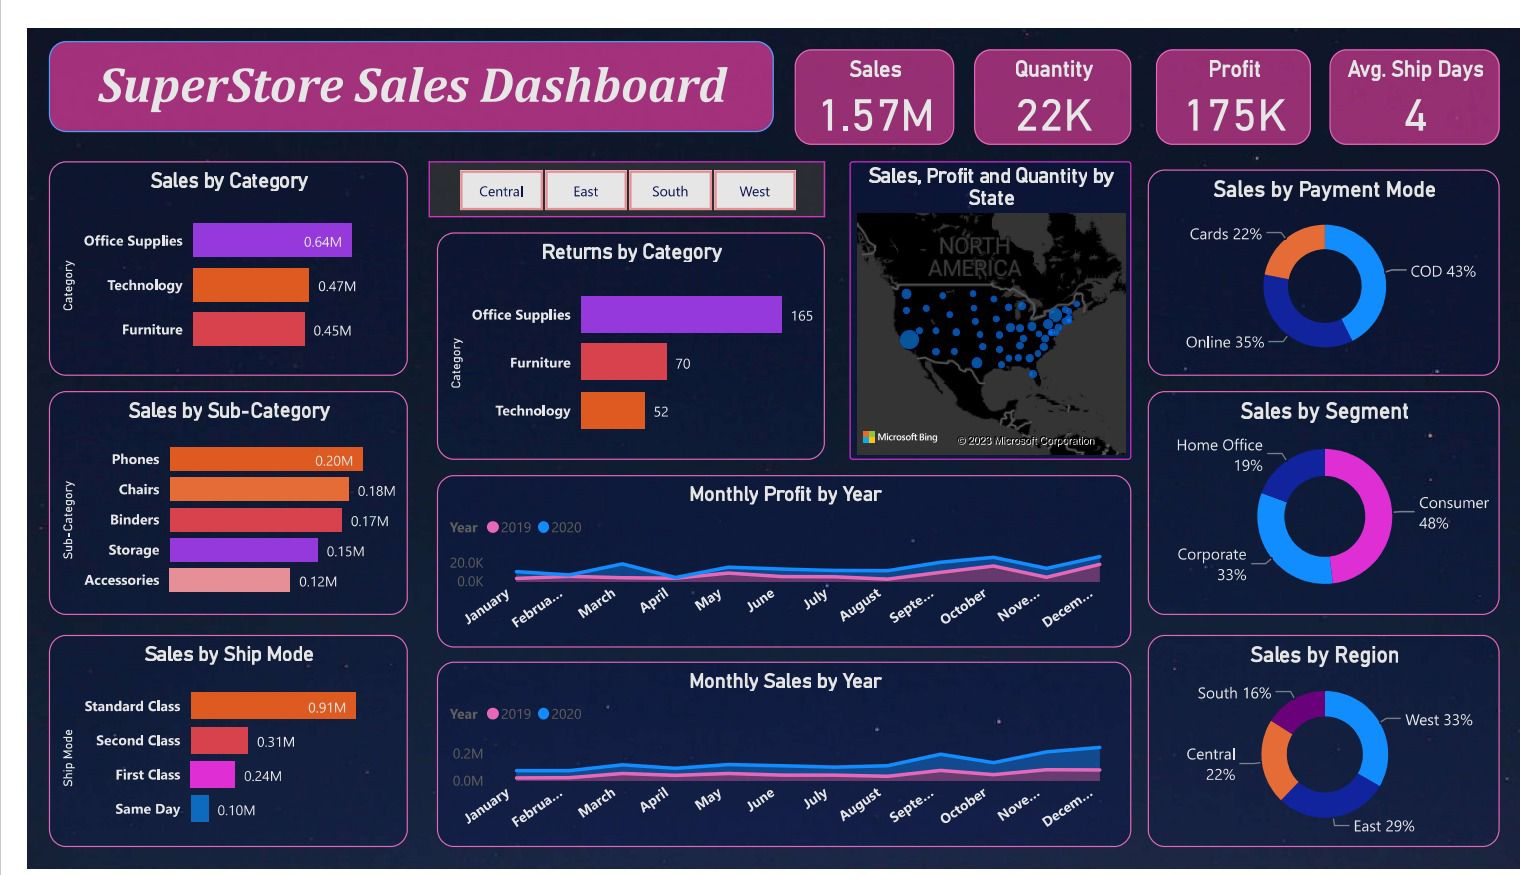

The page's visual inventory and layout, read from the dashboard file:
{"tool":"powerbi","page":{"name":"Dashboard","canvas":[1280,720],"ordinal":0},"visuals":[{"type":"clusteredBarChart","title":" Sales by Category","fields":{"Category":["SuperStore_Sales_Dataset.Category"],"Y":["Sum(SuperStore_Sales_Dataset.Sales)"]},"box":[17.8,113.8,308.5,183.7],"z":0},{"type":"clusteredBarChart","title":"Sales by Sub-Category","fields":{"Category":["SuperStore_Sales_Dataset.Sub-Category"],"Y":["Sum(SuperStore_Sales_Dataset.Sales)"]},"box":[17.8,311.2,308.5,191.9],"z":1000},{"type":"clusteredBarChart","title":"Sales by Ship Mode","fields":{"Category":["SuperStore_Sales_Dataset.Ship Mode"],"Y":["Sum(SuperStore_Sales_Dataset.Sales)"]},"box":[17.8,519.6,308.5,182.3],"z":2000},{"type":"donutChart","title":"Sales by Region","fields":{"Category":["SuperStore_Sales_Dataset.Region"],"Y":["Sum(SuperStore_Sales_Dataset.Sales)"]},"box":[961.1,519.6,301.6,182.3],"z":3000},{"type":"donutChart","title":"Sales by Segment","fields":{"Y":["Sum(SuperStore_Sales_Dataset.Sales)"],"Category":["SuperStore_Sales_Dataset.Segment"]},"box":[961.1,311.2,301.6,191.9],"z":4000},{"type":"donutChart","title":"Sales by Payment Mode","fields":{"Category":["SuperStore_Sales_Dataset.Payment Mode"],"Y":["Sum(SuperStore_Sales_Dataset.Sales)"]},"box":[961.1,120.7,301.6,176.9],"z":5000},{"type":"stackedAreaChart","title":"Monthly Sales by Year","fields":{"Category":["SuperStore_Sales_Dataset.Order Date.Variation.Date Hierarchy.Month","SuperStore_Sales_Dataset.Order Date.Variation.Date Hierarchy.Day"],"Y":["Sum(SuperStore_Sales_Dataset.Sales)"],"Series":["SuperStore_Sales_Dataset.Order Date.Variation.Date Hierarchy.Year"]},"box":[351,542.9,596.4,159],"z":6000},{"type":"stackedAreaChart","title":"Monthly Profit by Year","fields":{"Category":["SuperStore_Sales_Dataset.Order Date.Variation.Date Hierarchy.Month","SuperStore_Sales_Dataset.Order Date.Variation.Date Hierarchy.Day"],"Series":["SuperStore_Sales_Dataset.Order Date.Variation.Date Hierarchy.Year"],"Y":["Sum(SuperStore_Sales_Dataset.Profit)"]},"box":[351,382.5,596.4,148.1],"z":7000},{"type":"map","title":" Sales, Profit and Quantity by State","fields":{"Category":["SuperStore_Sales_Dataset.State"],"Size":["Sum(SuperStore_Sales_Dataset.Sales)"]},"box":[704.7,113.8,242.7,256.4],"z":8000},{"type":"slicer","fields":{"Values":["SuperStore_Sales_Dataset.Region"]},"box":[344.1,113.8,340,48],"z":9000},{"type":"card","title":"Sales","fields":{"Values":["Sum(SuperStore_Sales_Dataset.Sales)"]},"box":[658.1,17.8,137.1,82.3],"z":10000},{"type":"card","title":"Quantity","fields":{"Values":["Sum(SuperStore_Sales_Dataset.Quantity)"]},"box":[811.7,17.8,135.7,82.3],"z":11000},{"type":"card","title":"Profit","fields":{"Values":["Sum(SuperStore_Sales_Dataset.Profit)"]},"box":[968,17.8,133,82.3],"z":12000},{"type":"clusteredBarChart","title":"Returns by Category","fields":{"Y":["CountNonNull(SuperStore_Sales_Dataset.Returns)"],"Category":["SuperStore_Sales_Dataset.Category"]},"box":[351,175.5,333.2,194.7],"z":13000},{"type":"card","title":"Avg. Ship Days","fields":{"Values":["Avg(SuperStore_Sales_Dataset.avg delivery)"]},"box":[1117.4,17.8,145.3,82.3],"z":14000},{"type":"textbox","box":[17.8,11,622.5,78.1],"z":15000}]}

Visuals, with their boxes in screenshot pixels (x1, y1, x2, y2), scaled from the page's 1280x720 canvas onto the 1537x875 screenshot:
" Sales by Category" clusteredBarChart: left=21, top=138, right=392, bottom=362
"Sales by Sub-Category" clusteredBarChart: left=21, top=378, right=392, bottom=611
"Sales by Ship Mode" clusteredBarChart: left=21, top=631, right=392, bottom=853
"Sales by Region" donutChart: left=1154, top=631, right=1516, bottom=853
"Sales by Segment" donutChart: left=1154, top=378, right=1516, bottom=611
"Sales by Payment Mode" donutChart: left=1154, top=147, right=1516, bottom=362
"Monthly Sales by Year" stackedAreaChart: left=421, top=660, right=1138, bottom=853
"Monthly Profit by Year" stackedAreaChart: left=421, top=465, right=1138, bottom=645
" Sales, Profit and Quantity by State" map: left=846, top=138, right=1138, bottom=450
slicer - SuperStore_Sales_Dataset.Region: left=413, top=138, right=821, bottom=197
"Sales" card: left=790, top=22, right=955, bottom=122
"Quantity" card: left=975, top=22, right=1138, bottom=122
"Profit" card: left=1162, top=22, right=1322, bottom=122
"Returns by Category" clusteredBarChart: left=421, top=213, right=822, bottom=450
"Avg. Ship Days" card: left=1342, top=22, right=1516, bottom=122
textbox: left=21, top=13, right=769, bottom=108
